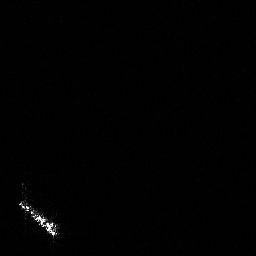ship: (16, 196, 61, 239)
